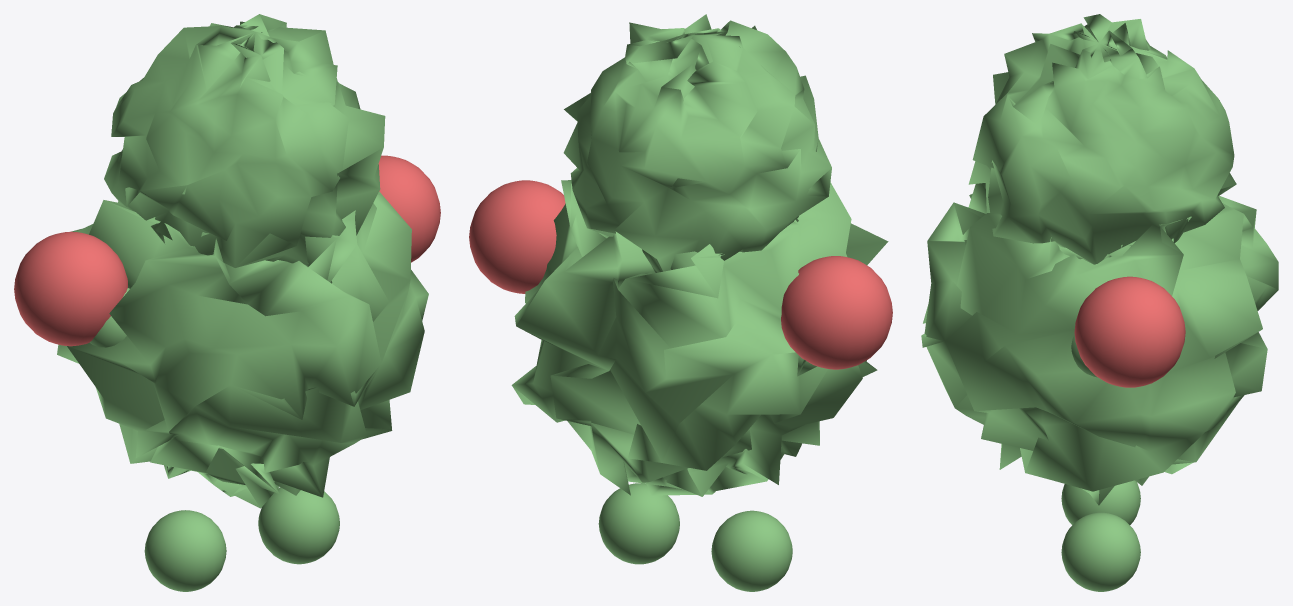
File: clay_boxing_frog.glb
3 renders of one model, left to right at view 1: azimuth 30°, elevation 25°; view 2: azimuth 150°, elevation 25°; view 3: azimuth 270°, elevation 25°, orthographic. The views are drawn at different scales.
Parts seen in each view (by area): view 1: glove.001; view 2: glove.001; view 3: glove.001.
Part boxes in pixels (x1,y1,x2,y2): glove.001: (14, 14, 440, 591); glove.001: (469, 14, 892, 591); glove.001: (921, 14, 1278, 591).
Size of the model in its own units: 1.6 by 2.03 by 1.24.
